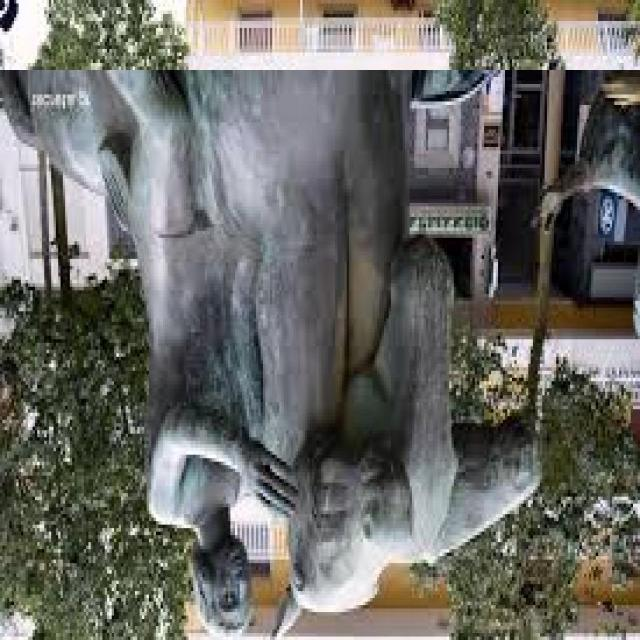Aretousa: (1, 71, 640, 640)
